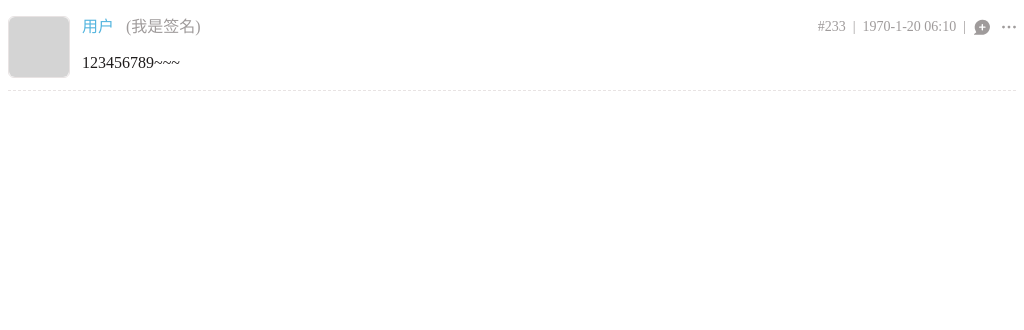
Test: Normal Comment › click reply button should show editor form
Step 1. Click the button titled "回复" → (982, 27), box x1=973 y1=17 x2=990 y2=37
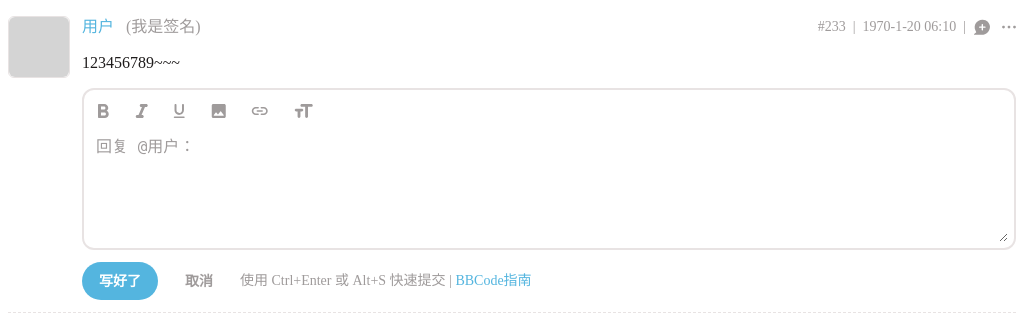
Now the number of elements with class "bgm-editor__form" is 1, box x1=82 y1=88 x2=1016 y2=300
Step 2. Click the button "取消" → (199, 281), box x1=168 y1=262 x2=230 y2=300
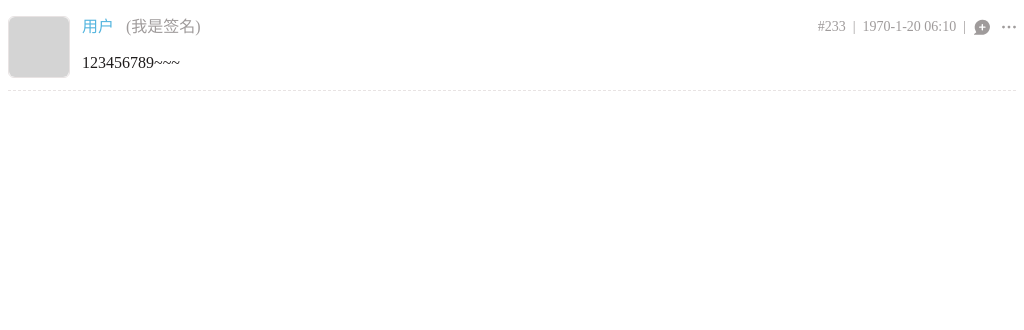
Now no elements with class "bgm-editor__form" are shown
